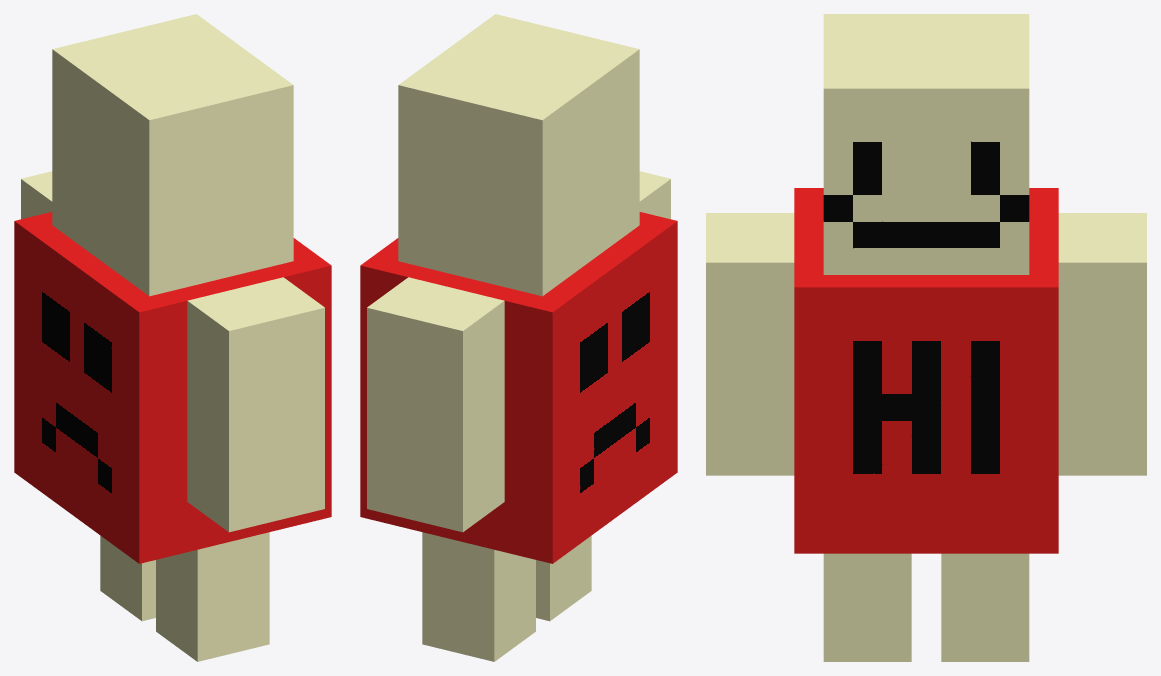
File: npc.fbx
3 views of the same model, side by side, from view 1: azimuth 30°, elevation 25°; view 2: azimuth 150°, elevation 25°; view 3: azimuth 270°, elevation 25° (orthographic). The views are drawn at different scales.
Visible parts, largest first — view 1: cube_1, cube, arm2, cube_2, cube_3, arm1; view 2: cube_1, cube, arm1, cube_3, cube_2, arm2; view 3: cube, cube_1, arm2, arm1, cube_2, cube_3.
Part boxes in pixels (x1,y1,x2,y2): cube_1: (52, 14, 293, 296); cube: (14, 212, 331, 563); arm2: (187, 277, 324, 532); cube_2: (156, 532, 269, 661); cube_3: (100, 535, 155, 621); arm1: (21, 171, 52, 219); cube_1: (398, 14, 639, 296); cube: (360, 212, 677, 563); arm1: (367, 277, 504, 532); cube_3: (422, 532, 535, 661); cube_2: (536, 535, 591, 621); arm2: (639, 171, 670, 219); cube: (794, 188, 1058, 553); cube_1: (823, 14, 1029, 274); arm2: (706, 213, 794, 475); arm1: (1058, 213, 1146, 475); cube_2: (823, 553, 911, 661); cube_3: (941, 553, 1029, 661).
Bounding box in the file's own units: 50 × 138 × 93.75.
3 materials, 3 textured.
